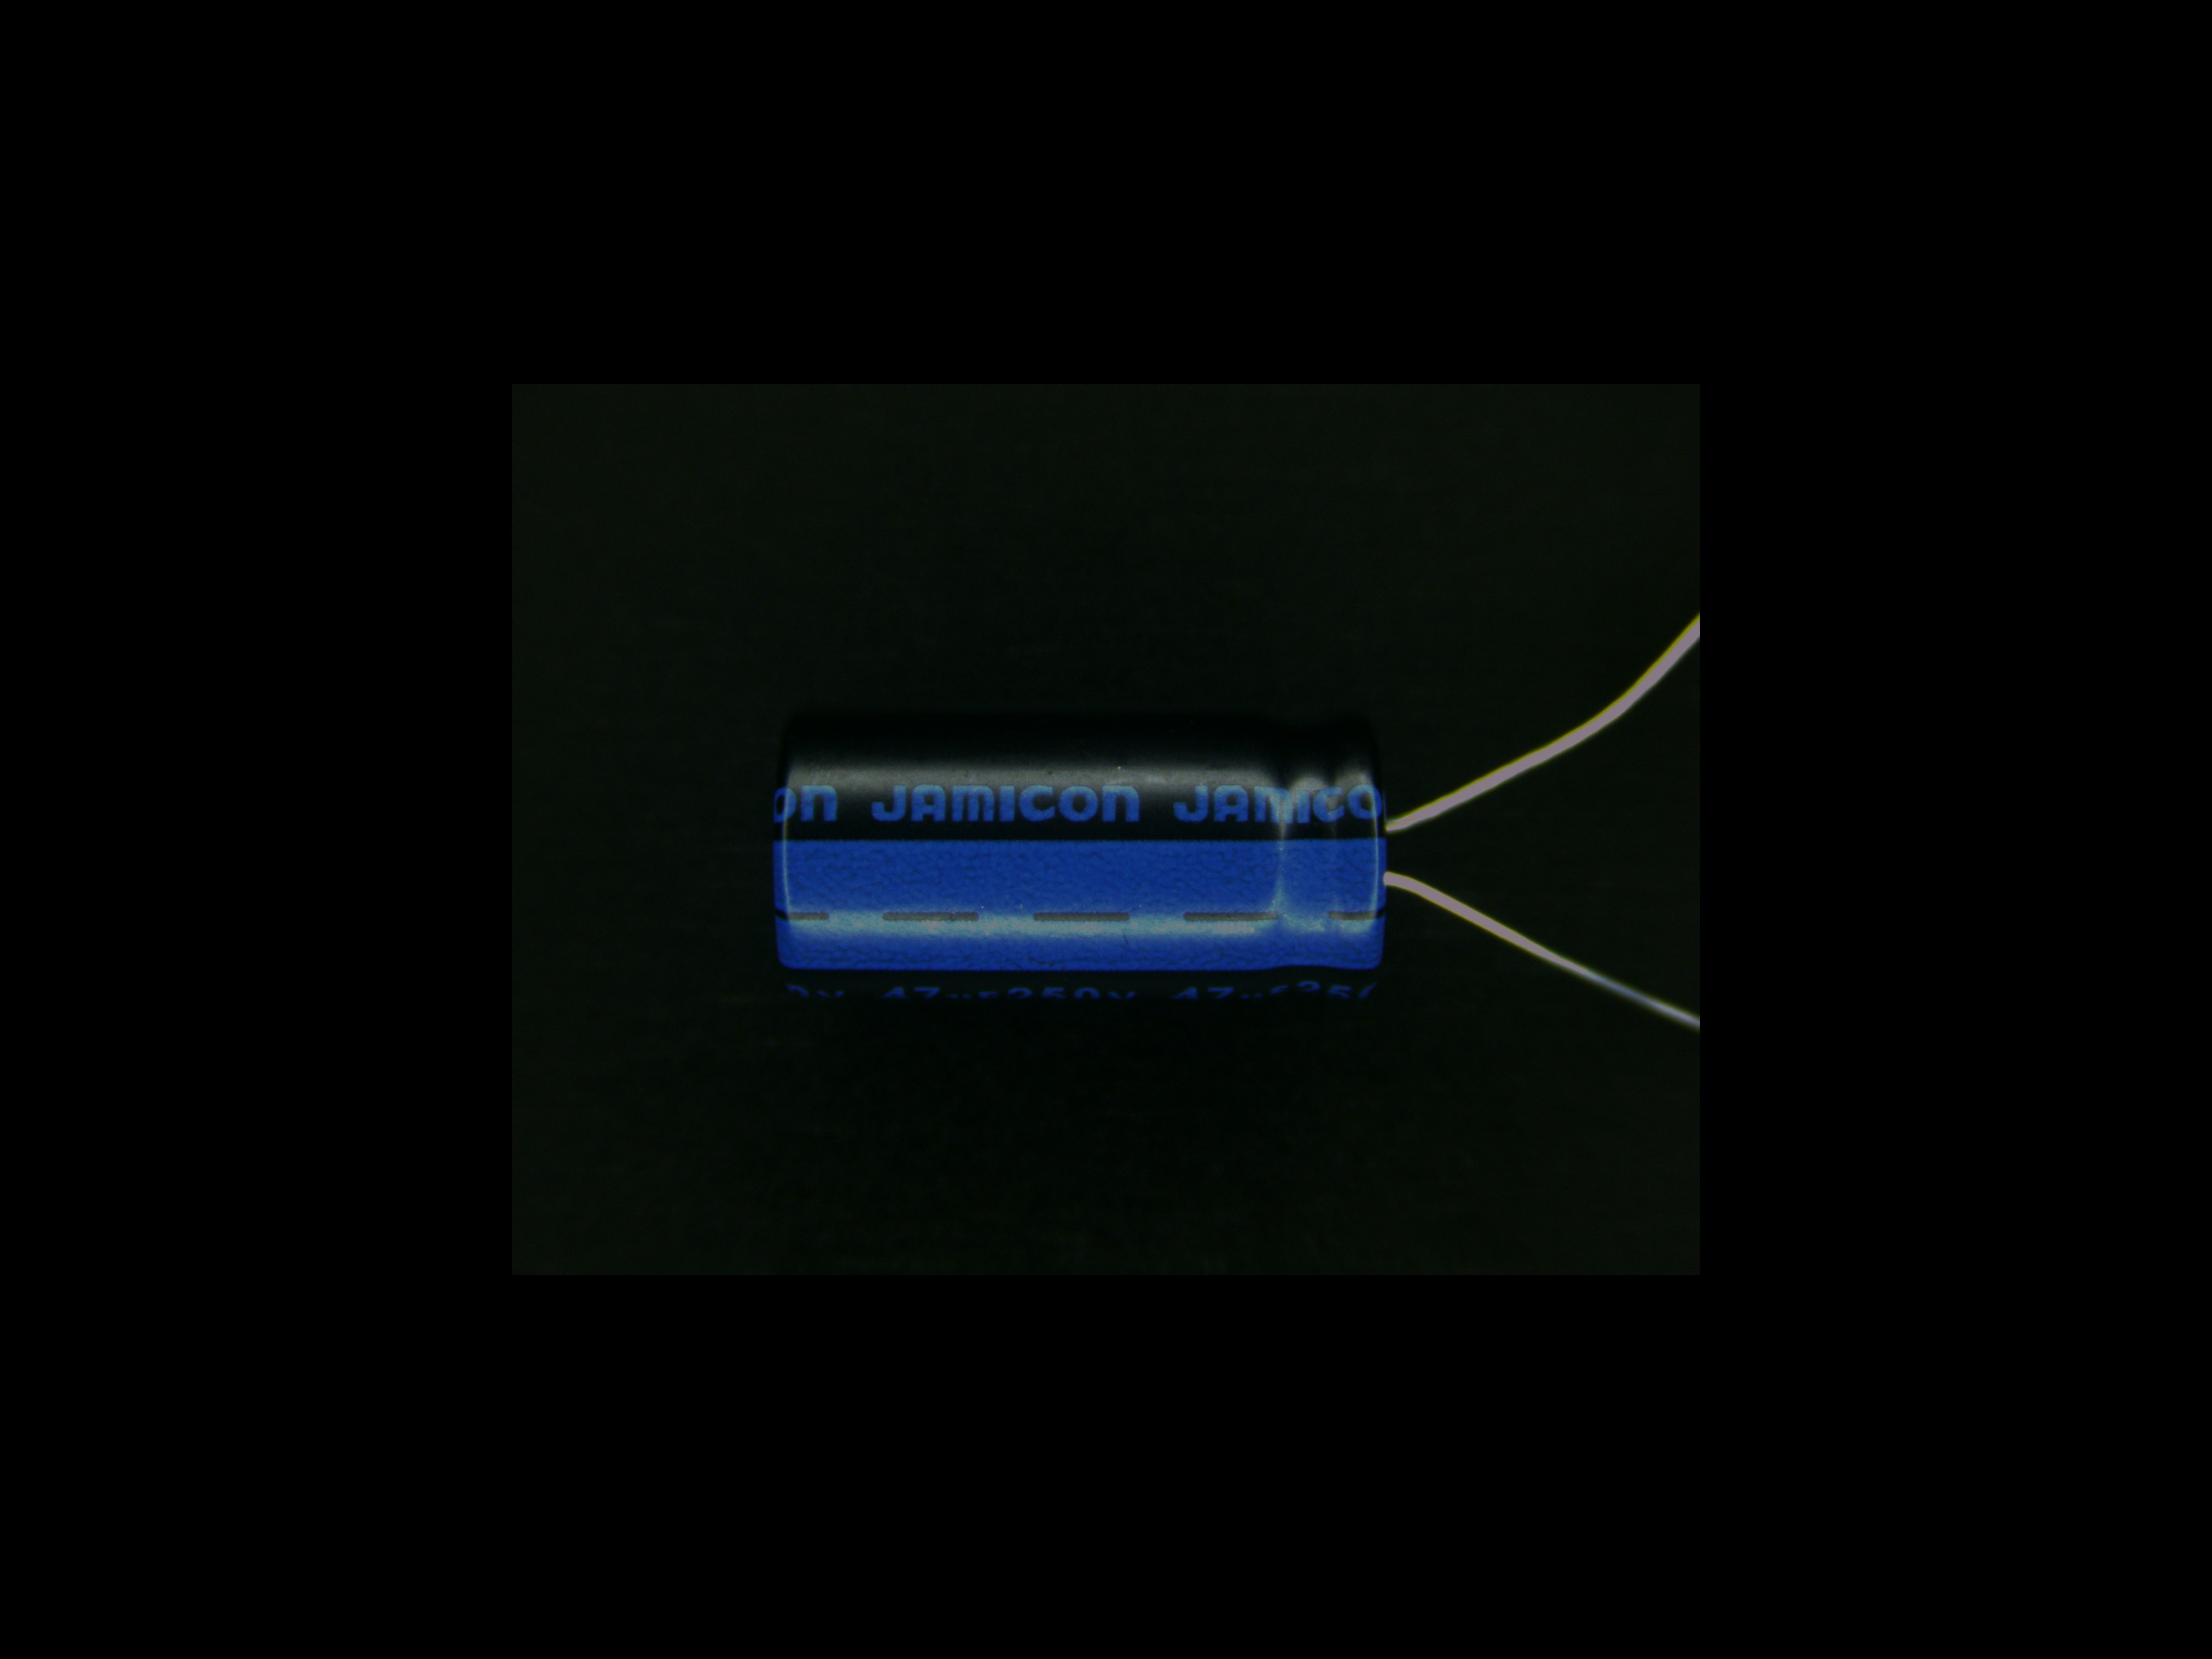c2: (768, 714, 1500, 1007)
